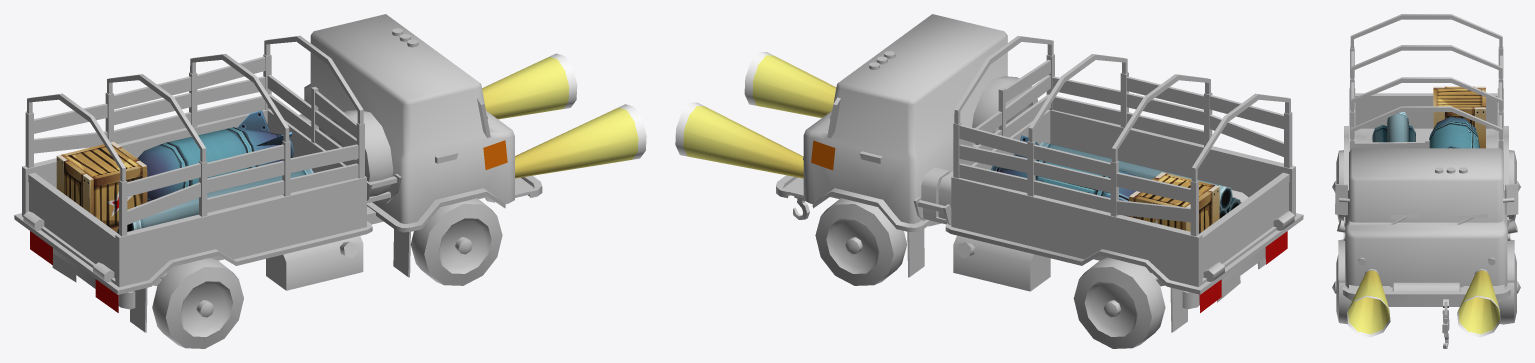
File: GAZ_66_truck.fbx
3 views of the same model, side by side, from view 1: azimuth 30°, elevation 25°; view 2: azimuth 150°, elevation 25°; view 3: azimuth 270°, elevation 25° (orthographic). The views are drawn at different scales.
Parts seen in each view (by area): view 1: GAZ_66, headlights, wheel_04, wheel_01, box, bomb, pipes, gaz_light; view 2: GAZ_66, headlights, wheel_03, wheel_02, box, gaz_light, pipes, bomb; view 3: GAZ_66, headlights, box, bomb, pipes, wheel_02, wheel_01, wheel_04, wheel_03.
Part boxes in pixels (bbox=[...]): GAZ_66: bbox=[14, 14, 542, 332]; headlights: bbox=[482, 53, 646, 178]; wheel_04: bbox=[152, 257, 243, 348]; wheel_01: bbox=[410, 198, 502, 285]; box: bbox=[56, 141, 147, 232]; bomb: bbox=[137, 110, 293, 201]; pipes: bbox=[117, 169, 313, 233]; gaz_light: bbox=[30, 140, 507, 312]; GAZ_66: bbox=[776, 14, 1303, 332]; headlights: bbox=[675, 52, 836, 178]; wheel_03: bbox=[1073, 257, 1165, 348]; wheel_02: bbox=[815, 198, 907, 285]; box: bbox=[1129, 172, 1219, 233]; gaz_light: bbox=[811, 140, 1287, 312]; pipes: bbox=[1040, 142, 1240, 218]; bomb: bbox=[991, 135, 1137, 216]; GAZ_66: bbox=[1335, 14, 1518, 348]; headlights: bbox=[1347, 270, 1500, 337]; box: bbox=[1433, 86, 1485, 148]; bomb: bbox=[1429, 116, 1479, 148]; pipes: bbox=[1372, 112, 1415, 142]; wheel_02: bbox=[1498, 253, 1520, 324]; wheel_01: bbox=[1332, 255, 1351, 324]; wheel_04: bbox=[1332, 150, 1343, 222]; wheel_03: bbox=[1509, 150, 1520, 221].
Size of the model in its own units: 15.46 by 6.18 by 5.96.
